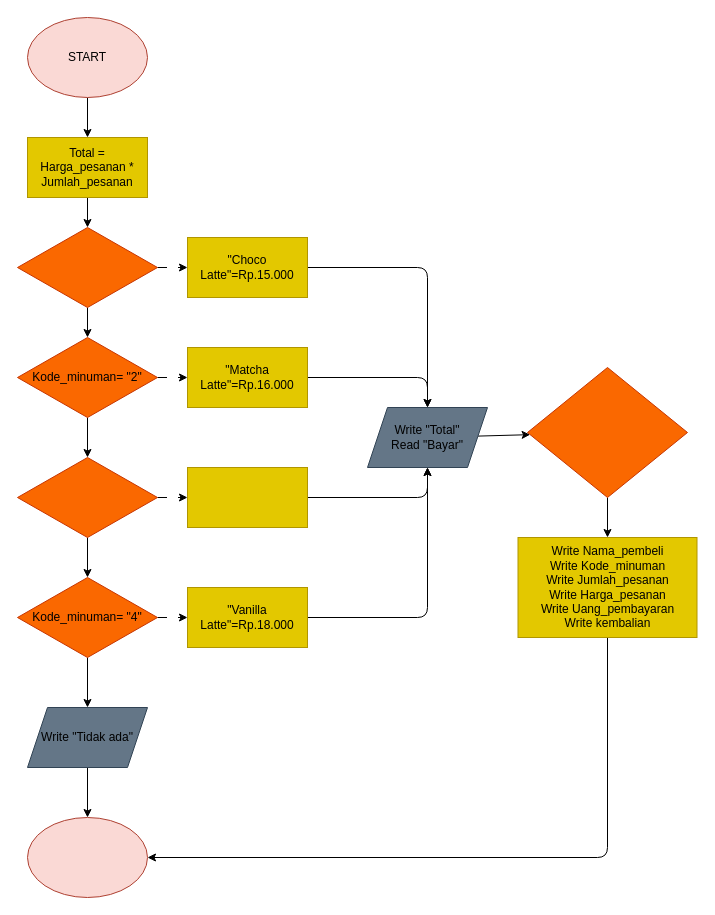
Some shapes in this 715 by 915 pixel diagram are drawn without their labels. Each missing label, with the box of its shape:
"Sakura Latte"=Rp.17.000: (186, 466, 308, 528)
END: (26, 816, 148, 898)
Kembalian = Uang_pembayaran - total: (526, 366, 688, 498)
Kode_minuman= "1": (16, 226, 158, 308)
Kode_minuman= "3": (16, 456, 158, 538)
